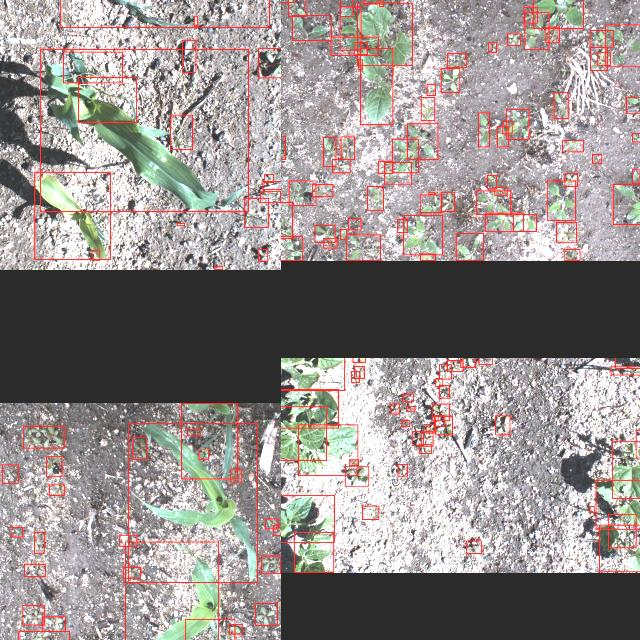crop: (40, 48, 248, 212), (128, 423, 256, 583), (124, 541, 217, 640), (34, 172, 110, 260), (59, 0, 268, 27), (181, 403, 237, 479), (356, 2, 412, 66), (297, 424, 357, 476), (281, 495, 333, 542), (360, 48, 392, 124), (281, 406, 326, 460), (595, 480, 640, 529), (281, 388, 337, 427), (281, 358, 343, 391), (598, 525, 640, 572), (611, 441, 640, 498), (293, 533, 333, 573)
weed: (78, 78, 136, 122), (62, 52, 121, 82), (402, 215, 442, 255), (605, 24, 640, 65), (533, 0, 583, 28), (546, 181, 576, 221), (612, 185, 640, 225), (407, 124, 438, 160), (184, 619, 234, 640), (292, 15, 331, 40), (608, 514, 636, 548), (22, 426, 64, 448), (391, 139, 417, 173), (346, 235, 380, 261), (340, 6, 360, 50), (524, 12, 548, 48), (330, 37, 378, 55), (476, 191, 510, 215), (170, 114, 192, 150), (455, 233, 483, 260), (288, 180, 316, 206), (257, 48, 281, 78), (244, 198, 268, 228), (485, 214, 523, 232), (506, 109, 528, 139), (384, 162, 411, 184), (281, 235, 301, 260), (255, 603, 277, 625), (440, 68, 460, 92), (344, 466, 368, 486), (17, 631, 68, 640), (22, 605, 44, 625), (512, 214, 536, 232), (182, 40, 195, 72), (556, 222, 576, 242), (590, 30, 612, 48), (419, 195, 441, 213), (322, 138, 336, 166), (367, 186, 383, 210), (553, 92, 567, 118), (281, 203, 291, 239), (260, 556, 280, 574), (590, 48, 606, 70), (42, 616, 64, 632), (478, 113, 488, 147), (314, 225, 334, 242), (340, 136, 354, 160), (434, 417, 452, 435), (45, 456, 61, 476), (1, 464, 17, 484), (420, 98, 434, 120), (132, 437, 146, 459), (287, 0, 305, 16), (494, 416, 510, 434), (446, 53, 466, 67), (440, 192, 454, 212), (432, 404, 448, 421), (331, 159, 349, 173), (23, 564, 44, 576), (609, 367, 640, 375), (497, 126, 508, 148), (562, 140, 582, 152), (312, 184, 332, 196), (523, 7, 537, 23), (545, 26, 559, 42), (626, 98, 640, 114), (438, 364, 452, 380), (465, 540, 481, 554), (362, 506, 378, 520), (122, 566, 140, 578), (339, 0, 352, 16), (260, 192, 280, 202), (34, 532, 44, 552), (596, 52, 610, 66), (48, 484, 64, 496), (120, 534, 136, 546), (446, 361, 462, 372), (506, 33, 520, 45), (564, 174, 578, 186), (378, 161, 392, 173), (563, 250, 579, 260), (262, 182, 281, 190), (354, 42, 366, 54), (348, 218, 360, 230), (229, 470, 241, 482), (502, 120, 512, 134), (486, 175, 496, 189), (397, 219, 407, 233), (228, 624, 242, 634), (264, 519, 278, 529), (438, 384, 448, 398), (422, 432, 432, 446), (412, 431, 422, 445), (418, 444, 432, 454), (631, 168, 639, 184), (258, 250, 268, 262), (324, 238, 336, 248), (10, 527, 22, 537), (459, 358, 474, 366), (397, 464, 407, 476), (354, 366, 364, 378), (187, 428, 200, 436), (591, 154, 601, 164), (198, 449, 208, 459), (434, 416, 444, 426), (420, 253, 434, 260), (426, 84, 434, 96), (494, 187, 506, 195), (281, 136, 285, 159), (272, 525, 281, 535), (389, 404, 398, 414), (631, 133, 640, 142), (91, 250, 99, 260), (488, 42, 496, 52), (426, 424, 434, 434), (402, 394, 412, 402), (351, 372, 359, 382), (478, 358, 491, 364), (264, 175, 272, 183), (340, 230, 346, 240), (348, 460, 358, 466), (401, 419, 409, 426), (352, 358, 365, 362), (435, 378, 441, 386), (406, 406, 414, 412), (357, 60, 361, 70), (214, 266, 222, 270), (379, 0, 383, 7), (589, 507, 593, 513), (194, 16, 196, 26), (176, 224, 184, 226), (428, 192, 434, 194)
